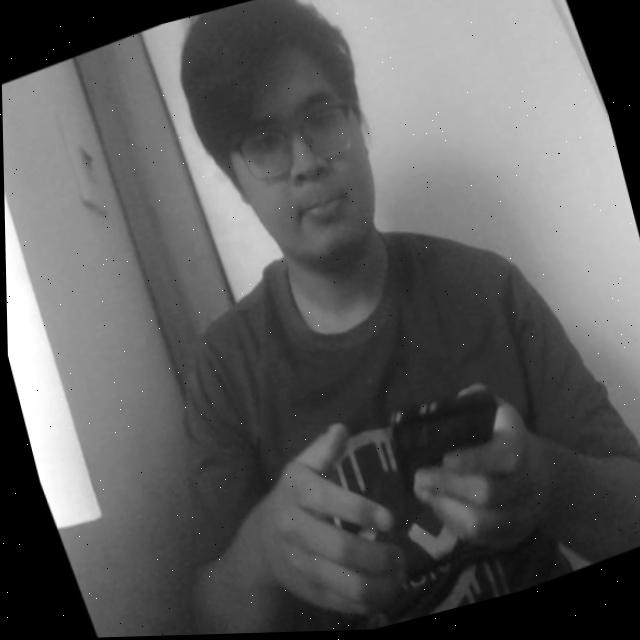phone: (367, 363, 526, 527)
